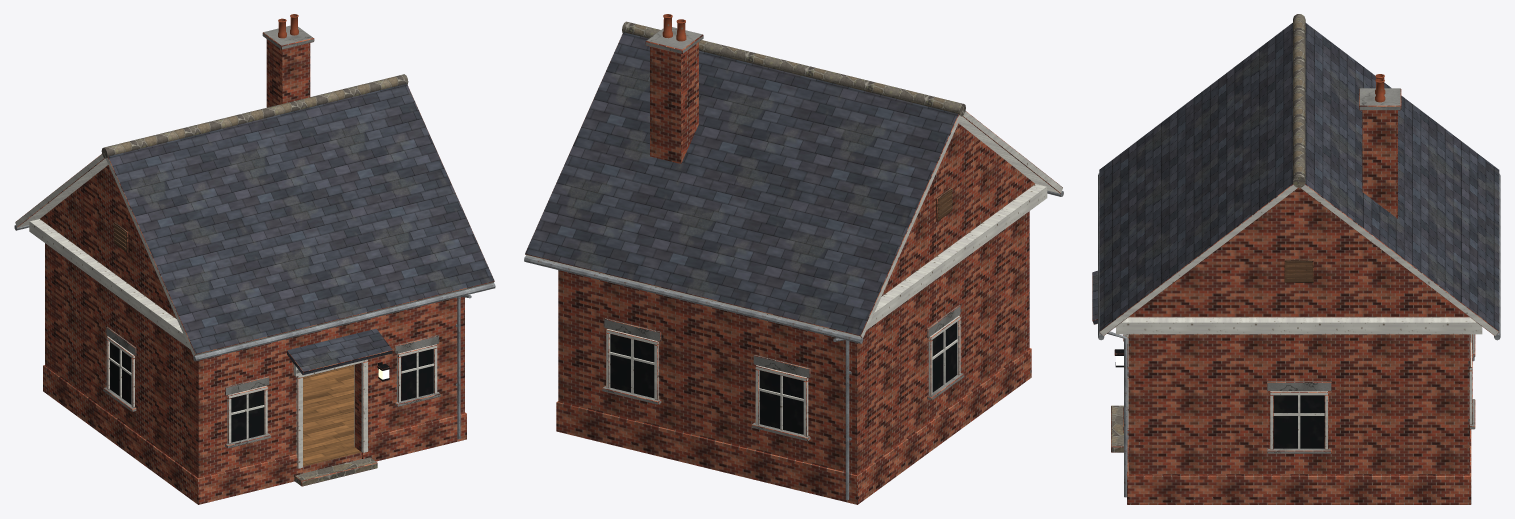
File: house_b.glb
3 views of the same model, side by side, from view 1: azimuth 30°, elevation 25°; view 2: azimuth 150°, elevation 25°; view 3: azimuth 270°, elevation 25° (orthographic). The views are drawn at different scales.
Parts seen in each view (by area): view 1: house_b_details, house_b_structure; view 2: house_b_details, house_b_structure; view 3: house_b_details, house_b_structure.
Part boxes in pixels (x1=…): house_b_details: x1=14, y1=14, x2=495, y2=504; house_b_structure: x1=29, y1=219, x2=464, y2=478; house_b_details: x1=524, y1=14, x2=1063, y2=504; house_b_structure: x1=558, y1=184, x2=1047, y2=474; house_b_details: x1=1092, y1=14, x2=1500, y2=504; house_b_structure: x1=1116, y1=317, x2=1482, y2=475.
Size of the model in its own units: 9.04 by 10.19 by 9.58.
Materials: 16 (15 with a texture image).
